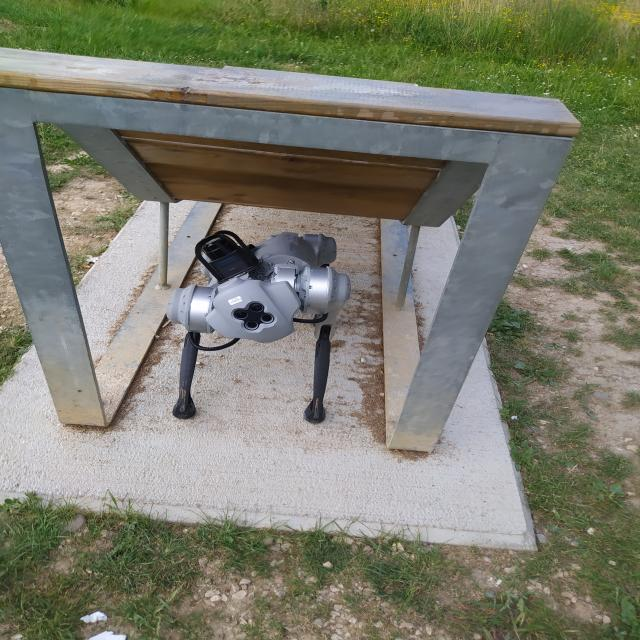unitree-go1-robot: (140, 204, 374, 434)
